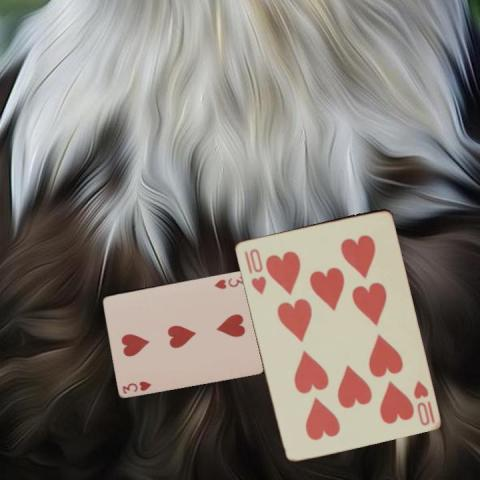10h: (241, 245, 267, 296), (410, 377, 436, 428)
3h: (212, 273, 246, 290), (119, 378, 153, 395)
